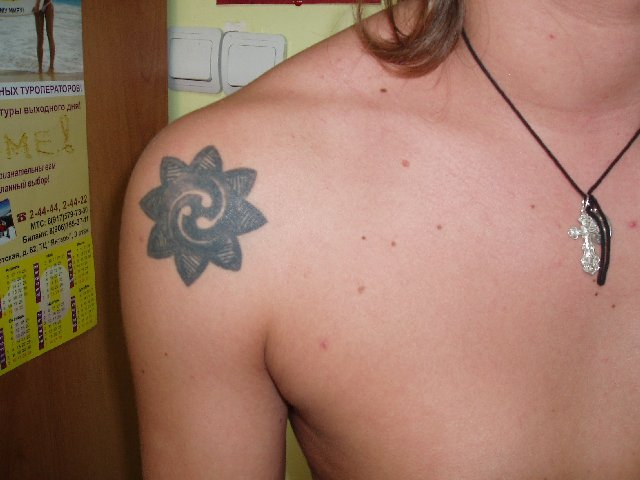tatu4_zvezda: (138, 146, 267, 288)
